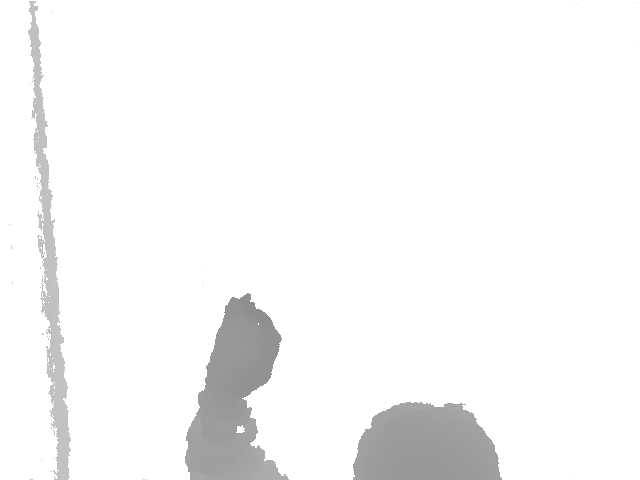hand: (200, 290, 282, 406)
head: (349, 404, 500, 480)
person: (184, 282, 505, 480)
